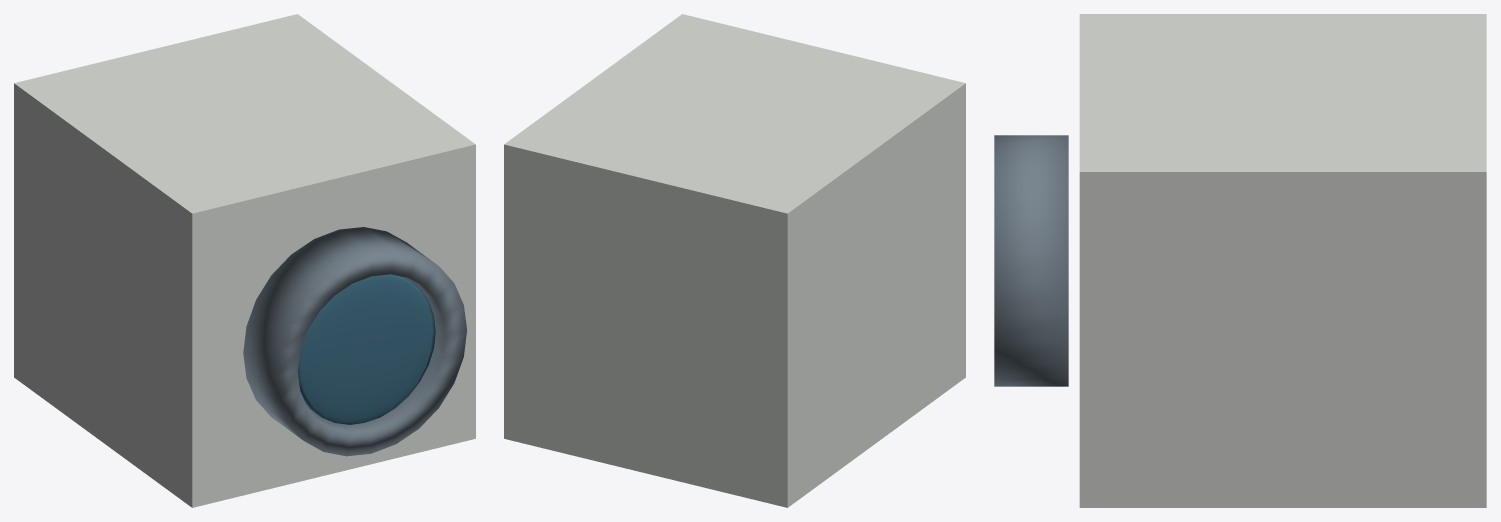
File: perseverance_mast.deployment.azimuth.head.supercam.glb
3 renders of one model, left to right at view 1: azimuth 30°, elevation 25°; view 2: azimuth 150°, elevation 25°; view 3: azimuth 270°, elevation 25°, orthographic. The views are drawn at different scales.
Parts seen in each view (by area): view 1: perseverance_mast.deployment.azimuth.head.supercam.mesh_Pale, perseverance_mast.deployment.azimuth.head.supercam.telescope (×2); view 2: perseverance_mast.deployment.azimuth.head.supercam.mesh_Pale; view 3: perseverance_mast.deployment.azimuth.head.supercam.mesh_Pale, perseverance_mast.deployment.azimuth.head.supercam.telescope.
Part boxes in pixels (<box>): perseverance_mast.deployment.azimuth.head.supercam.mesh_Pale: <box>14,14,475,507</box>; perseverance_mast.deployment.azimuth.head.supercam.telescope (×2): <box>243,227,466,456</box>; perseverance_mast.deployment.azimuth.head.supercam.mesh_Pale: <box>504,14,965,507</box>; perseverance_mast.deployment.azimuth.head.supercam.mesh_Pale: <box>1079,14,1486,507</box>; perseverance_mast.deployment.azimuth.head.supercam.telescope: <box>994,135,1068,386</box>.
Bounding box in the file's own units: 0.237 × 0.235 × 0.312.
